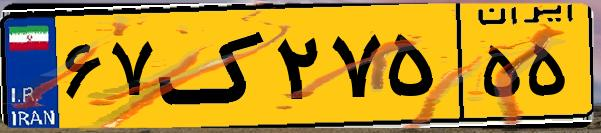2: (270, 28, 330, 110)
5: (385, 28, 445, 110), (475, 38, 525, 113), (525, 38, 570, 115)
6: (57, 26, 110, 100)
7: (330, 28, 385, 110), (110, 28, 158, 98)
ک: (158, 12, 270, 120)
